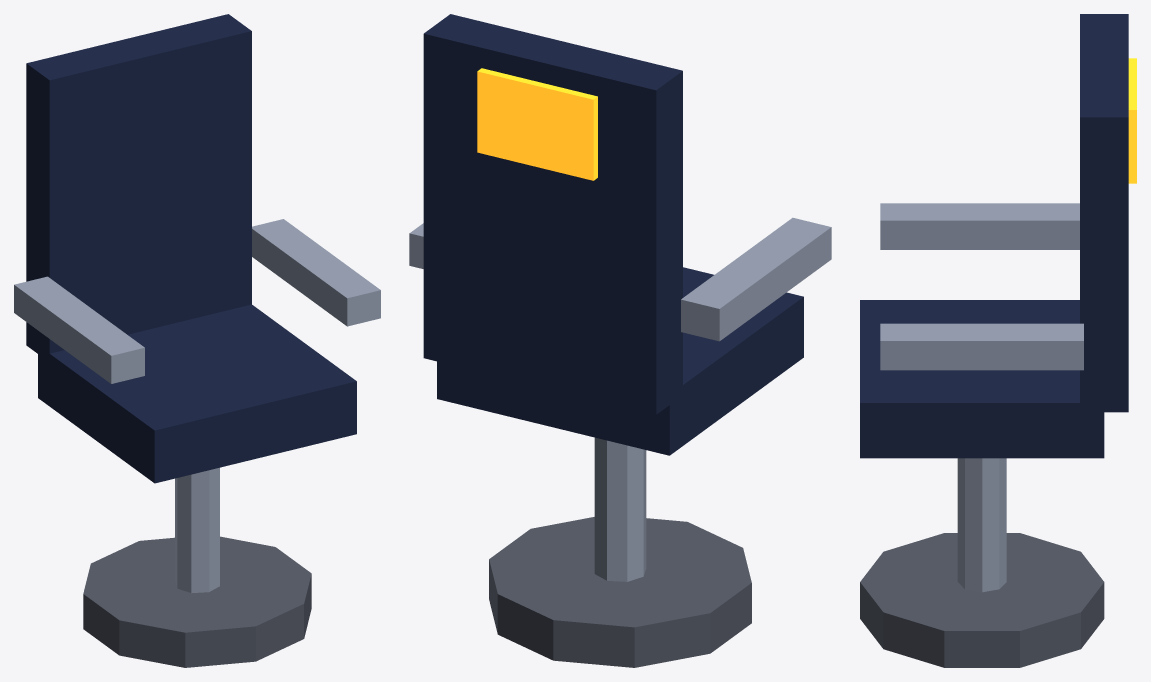
The model's file is stationpack-captain-chair.glb.
The picture shows the model from 3 angles, left to right: view 1: azimuth 30°, elevation 25°; view 2: azimuth 150°, elevation 25°; view 3: azimuth 270°, elevation 25°; orthographic projection. The views are drawn at different scales.
Visible parts, largest first — view 1: captain_chair; view 2: captain_chair; view 3: captain_chair.
Part boxes in pixels (x1=…): captain_chair: x1=14, y1=14, x2=380, y2=667; captain_chair: x1=409, y1=14, x2=831, y2=667; captain_chair: x1=860, y1=14, x2=1136, y2=667.
Size of the model in its own units: 0.8 by 1.5 by 0.68.
